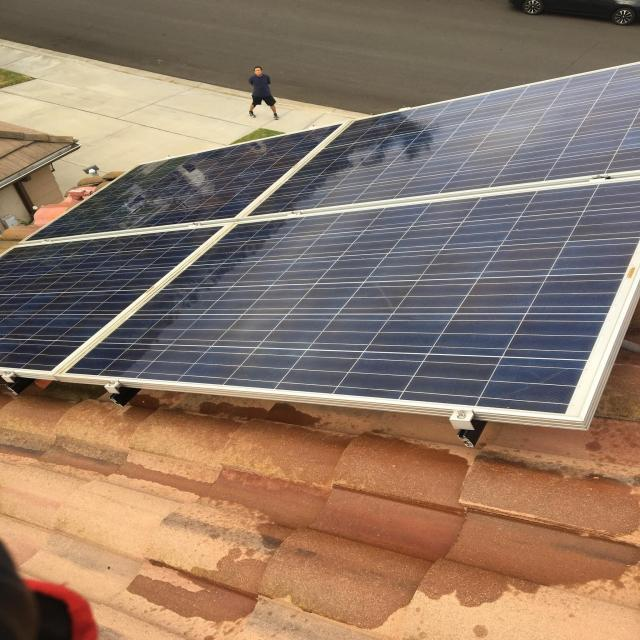no faulty: (0, 62, 640, 412)
